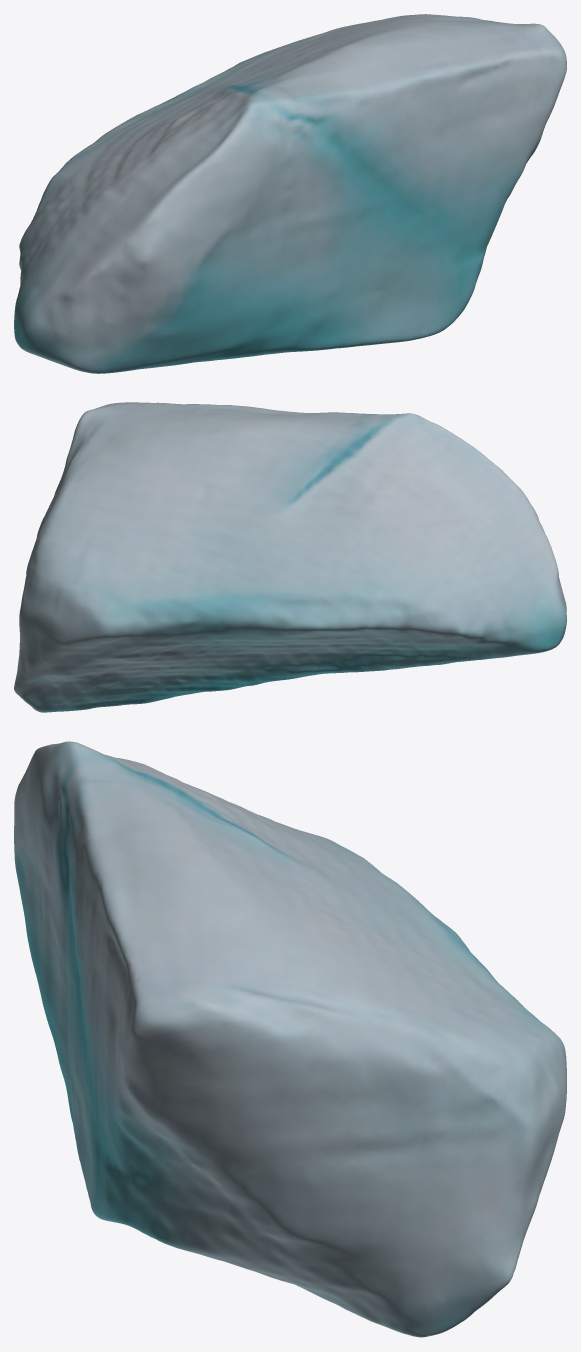
Rendered from 207dab7e4f93_Iceberg__3d_asset_0.fbx.
3 renders of one model, top to bottom at view 1: azimuth 30°, elevation 25°; view 2: azimuth 150°, elevation 25°; view 3: azimuth 270°, elevation 25°, orthographic. The views are drawn at different scales.
Parts seen in each view (by area): view 1: high_poly; view 2: high_poly; view 3: high_poly.
Part boxes in pixels (<box>): high_poly: <box>14,14,566,373</box>; high_poly: <box>14,402,566,712</box>; high_poly: <box>14,741,566,1337</box>.
Size of the model in its own units: 100 by 56.91 by 68.99.
